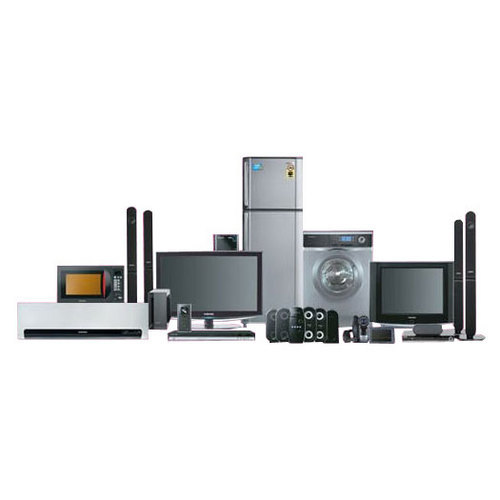AC: (19, 303, 148, 340)
Refrigerator: (244, 158, 301, 250)
